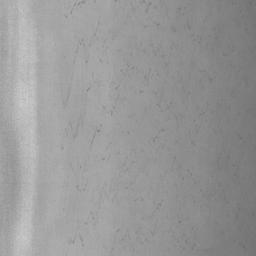Silk spot: (65, 114, 83, 139), (89, 124, 102, 144), (75, 38, 85, 53), (63, 87, 70, 108), (73, 0, 86, 8)
